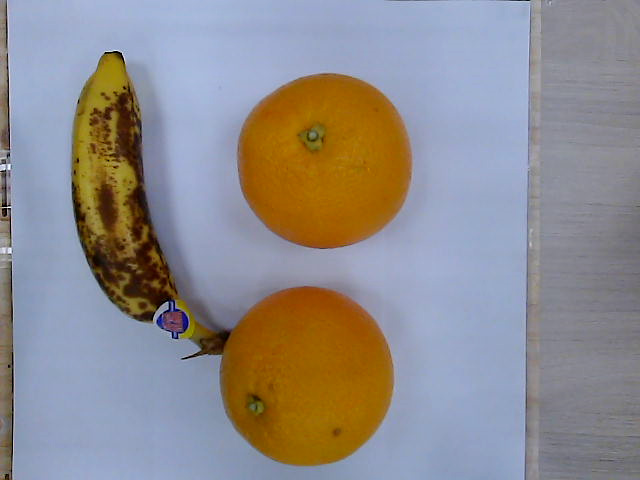fresh_orange: (221, 286, 395, 469), (237, 73, 415, 250)
rotten_banana: (71, 51, 229, 351)
